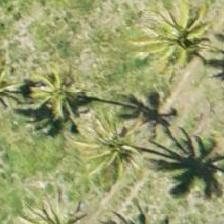coconut_tree: (58, 117, 148, 207), (19, 51, 109, 141), (138, 0, 223, 76)
